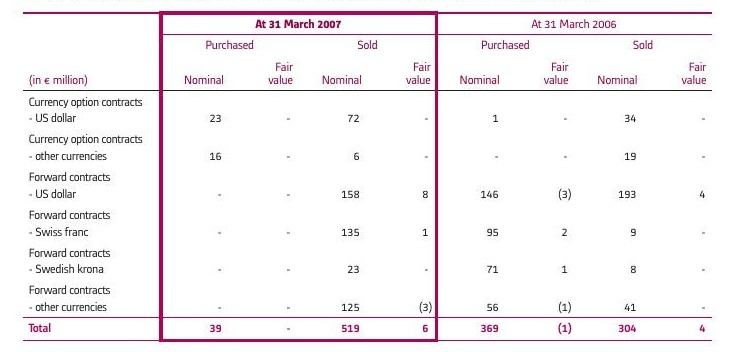table: (0, 0, 731, 352)
